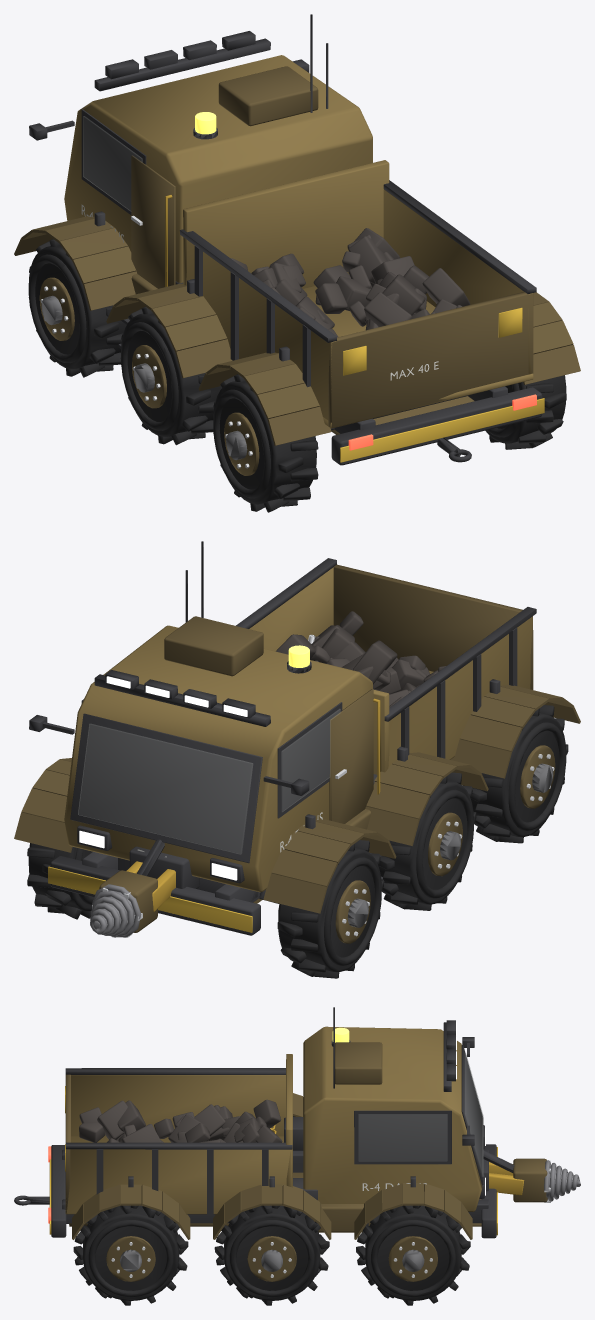
The model's file is Rover.glb.
The picture shows the model from 3 angles, top to bottom: view 1: azimuth 30°, elevation 25°; view 2: azimuth 150°, elevation 25°; view 3: azimuth 270°, elevation 25°; orthographic projection. The views are drawn at different scales.
Parts seen in each view (by area): view 1: Aufbau__lack, Rad_HL__matt, Rad_ML__matt, Rad_VL__matt, Aufbau__matt, Aufbau__warn, Aufbau__glas, Rad_HR__matt, Rad_HL__lack, Rad_VL__lack, Rad_ML__lack, Rad_VL__metall (+2 smaller); view 2: Aufbau__lack, Aufbau__glas, Rad_VL__matt, Rad_ML__matt, Rad_HL__matt, Aufbau__matt, Rad_VR__matt, Aufbau__warn, Bohrer__metall, Aufbau__glow_Werftlampe, Aufbau__metall, Rad_HL__lack (+5 smaller); view 3: Aufbau__lack, Rad_HR__matt, Rad_VR__matt, Rad_MR__matt, Aufbau__glas, Aufbau__matt, Rad_MR__lack, Rad_VR__lack, Rad_HR__lack, Aufbau__metall, Bohrer__metall, Rad_VR__metall (+2 smaller).
Boxes of the visible parts, <box> form: Aufbau__lack: <box>14,14,580,465</box>; Rad_HL__matt: <box>213,374,318,512</box>; Rad_ML__matt: <box>120,306,221,445</box>; Rad_VL__matt: <box>28,239,126,377</box>; Aufbau__matt: <box>28,204,565,498</box>; Aufbau__warn: <box>340,307,544,462</box>; Aufbau__glas: <box>83,116,142,210</box>; Rad_HR__matt: <box>485,375,566,449</box>; Rad_HL__lack: <box>224,412,259,475</box>; Rad_VL__lack: <box>39,277,74,340</box>; Rad_ML__lack: <box>132,345,166,408</box>; Rad_VL__metall: <box>40,286,68,333</box>; Aufbau__lack: <box>14,541,580,935</box>; Aufbau__glas: <box>78,709,340,854</box>; Rad_VL__matt: <box>277,840,383,978</box>; Rad_ML__matt: <box>378,772,476,910</box>; Rad_HL__matt: <box>463,705,568,843</box>; Aufbau__matt: <box>28,722,566,965</box>; Rad_VR__matt: <box>27,843,92,919</box>; Aufbau__warn: <box>48,866,252,932</box>; Bohrer__metall: <box>90,884,142,937</box>; Aufbau__glow_Werftlampe: <box>79,676,247,880</box>; Aufbau__metall: <box>90,634,346,936</box>; Rad_HL__lack: <box>520,745,555,808</box>; Aufbau__lack: <box>14,1007,547,1239</box>; Rad_HR__matt: <box>73,1205,188,1305</box>; Rad_VR__matt: <box>356,1205,470,1305</box>; Rad_MR__matt: <box>214,1205,329,1305</box>; Aufbau__glas: <box>358,1053,483,1176</box>; Aufbau__matt: <box>88,1183,455,1297</box>; Rad_MR__lack: <box>247,1236,296,1281</box>; Rad_VR__lack: <box>388,1236,437,1281</box>; Rad_HR__lack: <box>106,1236,155,1281</box>; Aufbau__metall: <box>270,1128,580,1201</box>; Bohrer__metall: <box>544,1160,580,1202</box>; Rad_VR__metall: <box>393,1242,432,1277</box>.
Size of the model in its own units: 4.02 by 4.26 by 8.23.
